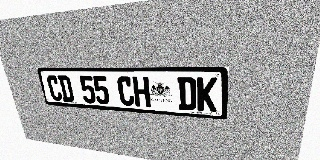5: (92, 76, 110, 105), (79, 76, 97, 104)
C: (116, 76, 135, 106), (46, 75, 63, 101)
D: (177, 77, 196, 111), (57, 75, 75, 102)
H: (132, 76, 151, 107)
K: (197, 77, 217, 112)
